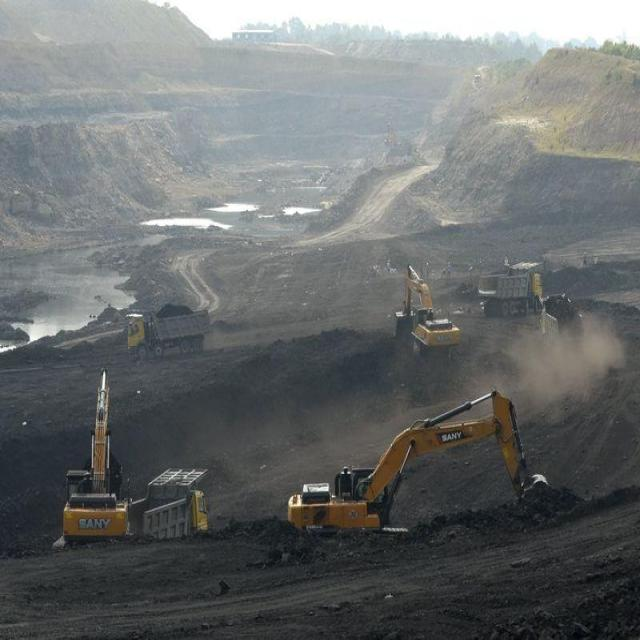dump_truck: (128, 294, 213, 365), (131, 463, 206, 543), (482, 264, 545, 310), (544, 300, 579, 333)
excavator: (286, 390, 560, 530), (62, 364, 126, 551), (397, 255, 459, 374)
